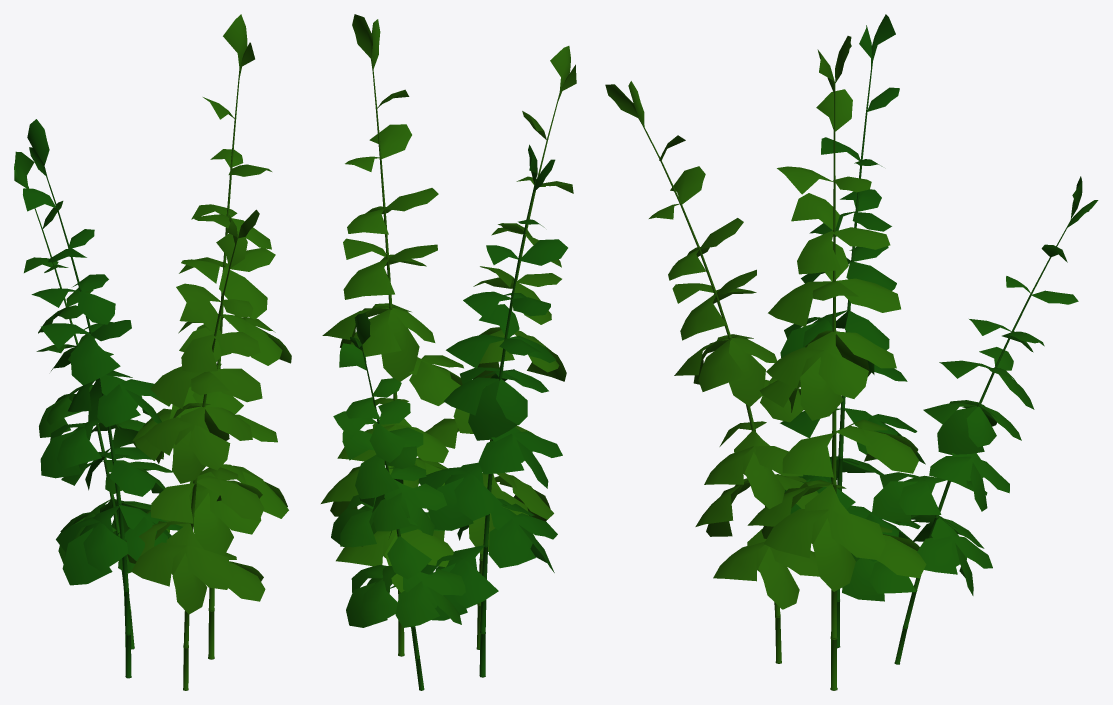
The model's file is Bamboo.glb.
3 views of the same model, side by side, from view 1: azimuth 30°, elevation 25°; view 2: azimuth 150°, elevation 25°; view 3: azimuth 270°, elevation 25° (orthographic). The views are drawn at different scales.
Parts seen in each view (by area): view 1: bamboo002, bamboo001, bamboo, bamboo003; view 2: bamboo001, bamboo003, bamboo, bamboo002; view 3: bamboo, bamboo002, bamboo003, bamboo001.
Boxes of the visible parts, bbox=[...] form: bamboo002: bbox=[126, 209, 265, 690]; bamboo001: bbox=[23, 119, 182, 678]; bamboo: bbox=[132, 14, 291, 659]; bamboo003: bbox=[14, 151, 172, 649]; bamboo001: bbox=[418, 144, 567, 677]; bamboo003: bbox=[331, 313, 465, 690]; bamboo: bbox=[321, 14, 463, 656]; bamboo002: bbox=[425, 46, 576, 649]; bamboo: bbox=[747, 36, 926, 690]; bamboo002: bbox=[605, 81, 818, 663]; bamboo003: bbox=[842, 176, 1098, 664]; bamboo001: bbox=[780, 14, 925, 648].
Size of the model in its own units: 1.63 by 4.14 by 2.75.
